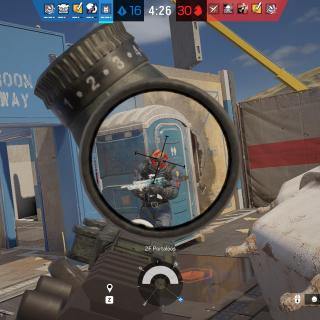Character: (122, 147, 182, 248)
Friend_label: (140, 129, 172, 144)
Head: (149, 148, 167, 170)
